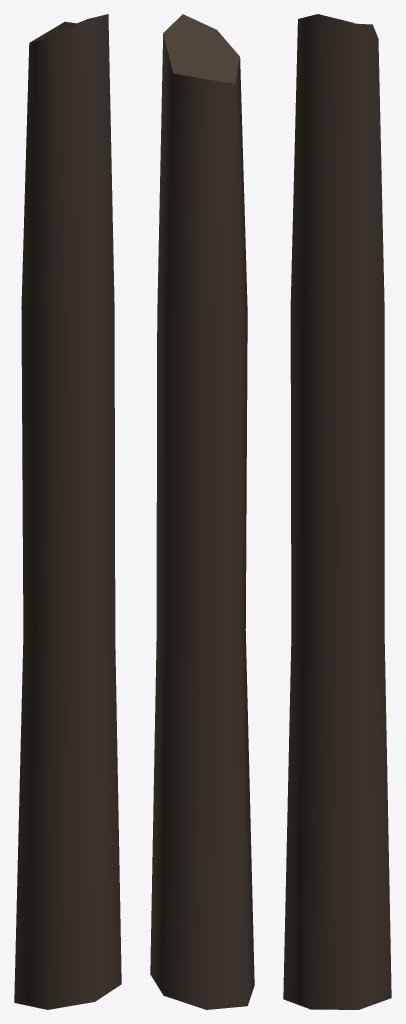
The model's file is pier-stump-1.glb.
The picture shows the model from 3 angles, left to right: view 1: azimuth 30°, elevation 25°; view 2: azimuth 210°, elevation 25°; view 3: azimuth 330°, elevation 25°; orthographic projection. The views are drawn at different scales.
Visible parts, largest first — view 1: pier-stump-1; view 2: pier-stump-1; view 3: pier-stump-1.
Boxes of the visible parts, box(x1,y1,x2,y2) form: pier-stump-1: box(14, 14, 121, 1009); pier-stump-1: box(150, 14, 254, 1009); pier-stump-1: box(283, 14, 391, 1009).
Size of the model in its own units: 0.4082 by 4.14 by 0.3973.
